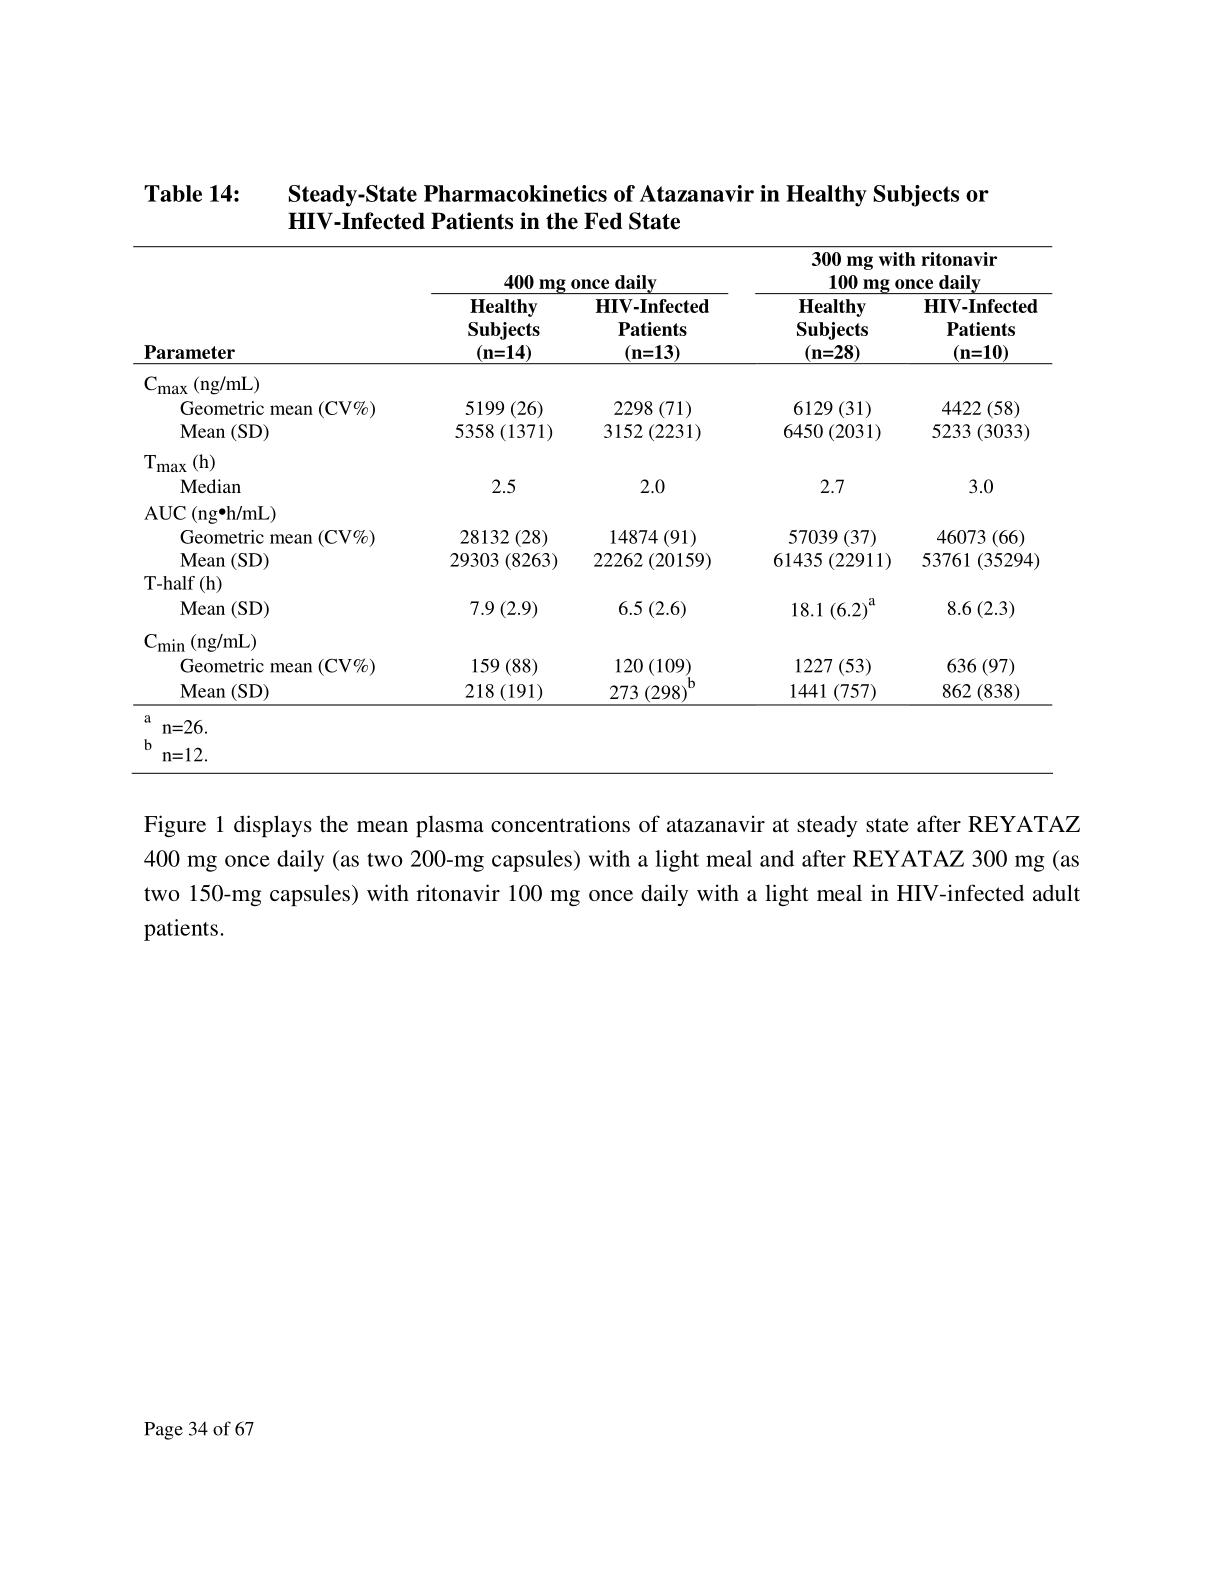partial_lined_merged_cells: (131, 244, 1056, 707)
